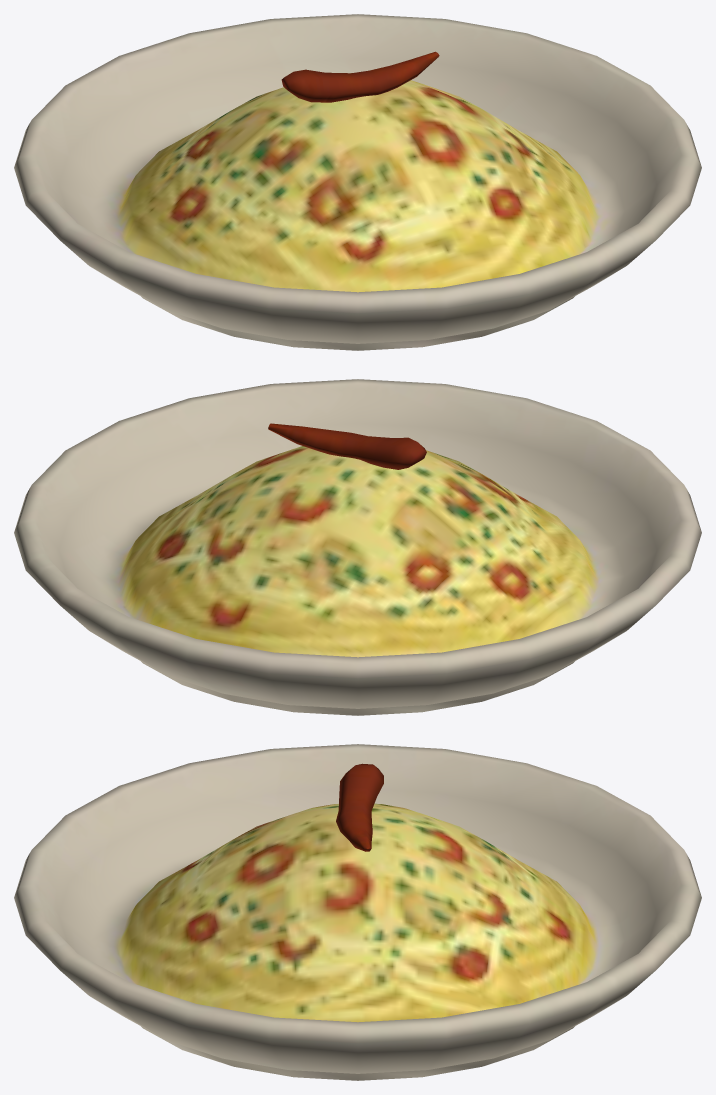
3 renders of one model, top to bottom at view 1: azimuth 30°, elevation 25°; view 2: azimuth 150°, elevation 25°; view 3: azimuth 270°, elevation 25°, orthographic.
Size of the model in its own units: 7.2 by 2.1 by 7.2.
1 material, 1 textured.
